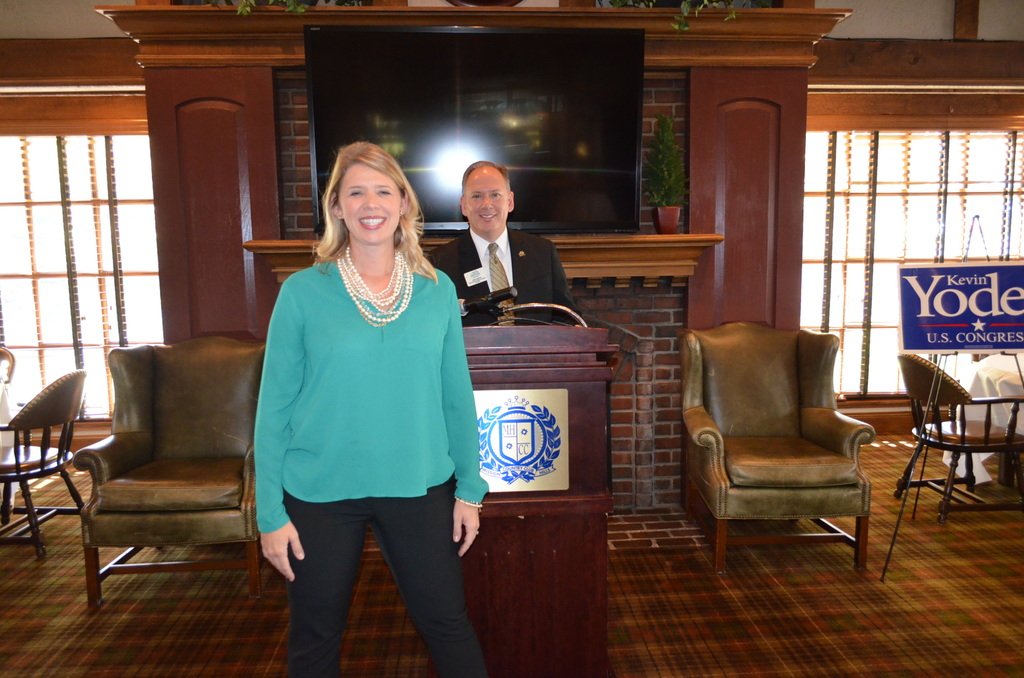Chair: (682, 307, 890, 590), (74, 337, 263, 608), (889, 351, 1023, 520), (0, 367, 90, 557)
